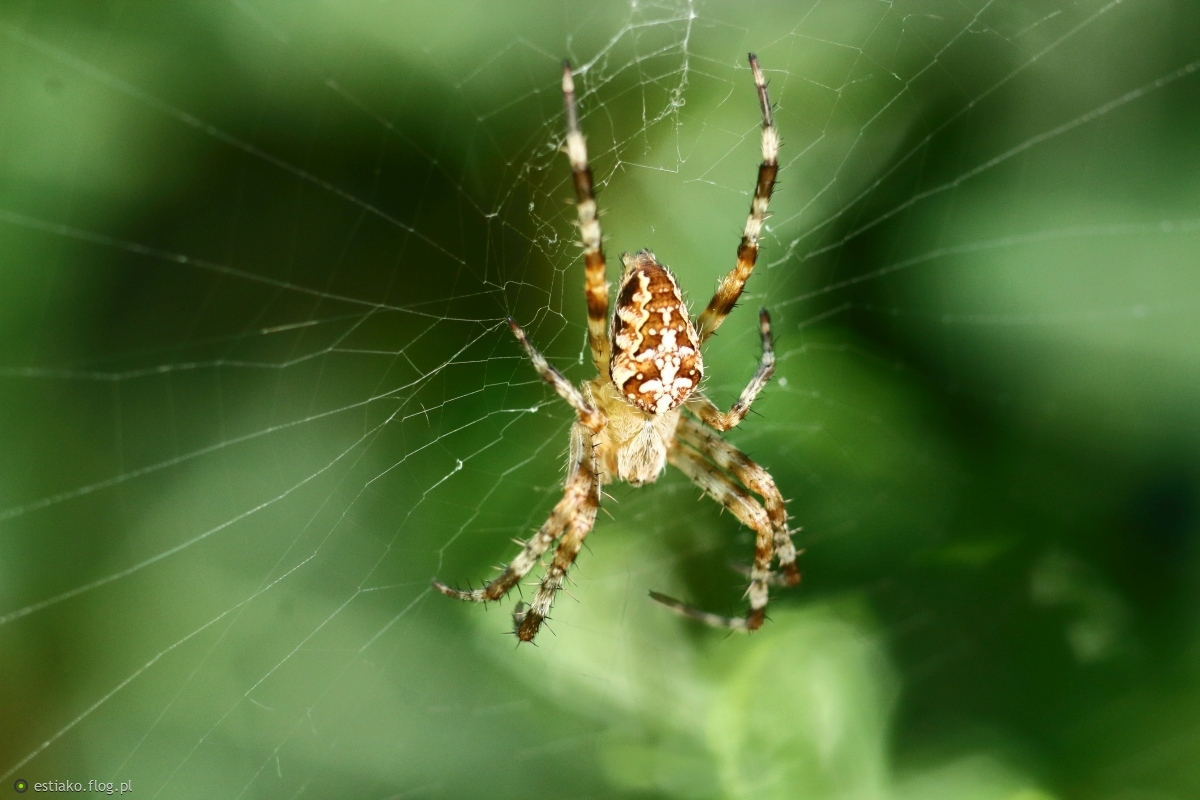spider: (388, 17, 880, 679)
